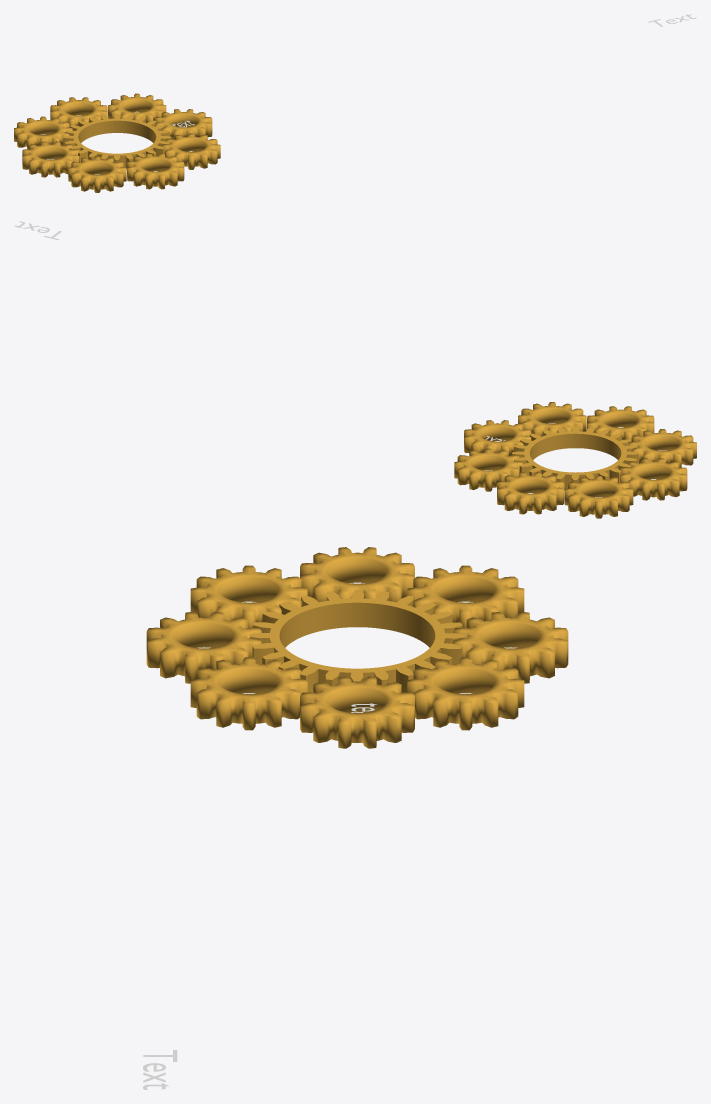
The model's file is pain.glb.
3 views of the same model, one above another, from view 1: azimuth 30°, elevation 25°; view 2: azimuth 150°, elevation 25°; view 3: azimuth 270°, elevation 25° (orthographic). The views are drawn at different scales.
Parts seen in each view (by area): view 1: Gear.006, Gear.008, Gear.003, Gear, Gear.007, Gear.004, Gear.002, Gear.005, Gear.001; view 2: Gear.006, Gear.004, Gear.001, Gear, Gear.005, Gear.008, Gear.002, Gear.007, Gear.003; view 3: Gear.006, Gear.002, Gear.005, Gear.007, Gear.001, Gear.003, Gear.004, Gear, Gear.008.
Boxes of the visible parts, x1,y1,x2,y2 form: Gear.006: (63,114,171,169); Gear.008: (68,156,126,192); Gear.003: (127,153,184,189); Gear: (22,141,79,177); Gear.007: (162,133,220,169); Gear.004: (14,116,72,149); Gear.002: (155,109,212,139); Gear.005: (108,93,166,123); Gear.001: (50,97,107,127); Gear.006: (512,426,638,490); Gear.004: (564,475,633,518); Gear.001: (497,472,564,514); Gear: (620,458,687,500); Gear.005: (454,448,522,491); Gear.008: (628,429,696,467); Gear.002: (464,420,531,456); Gear.007: (518,402,586,436); Gear.003: (587,406,654,440); Gear.006: (249,590,465,692); Gear.002: (300,676,414,748); Gear.005: (407,657,524,730); Gear.007: (190,657,307,730); Gear.001: (453,612,568,683); Gear.003: (146,612,261,683); Gear.004: (407,565,524,627); Gear: (300,547,414,602); Gear.008: (190,565,307,627).
Bounding box in the file's own units: 28.55 × 1.85 × 8.51.
